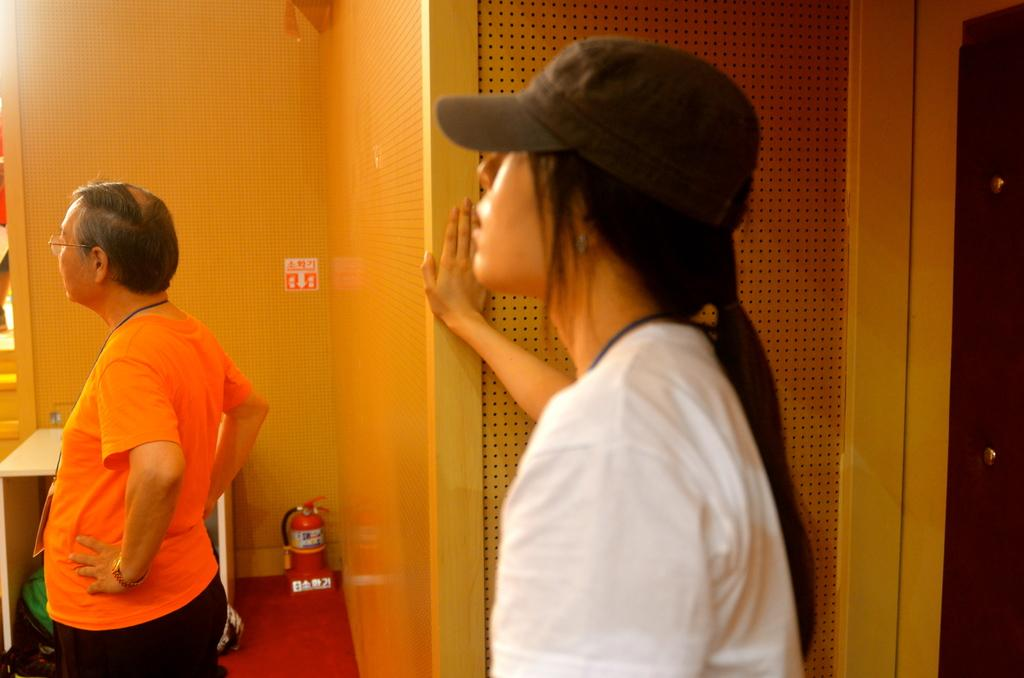Hat: (432, 35, 764, 233)
